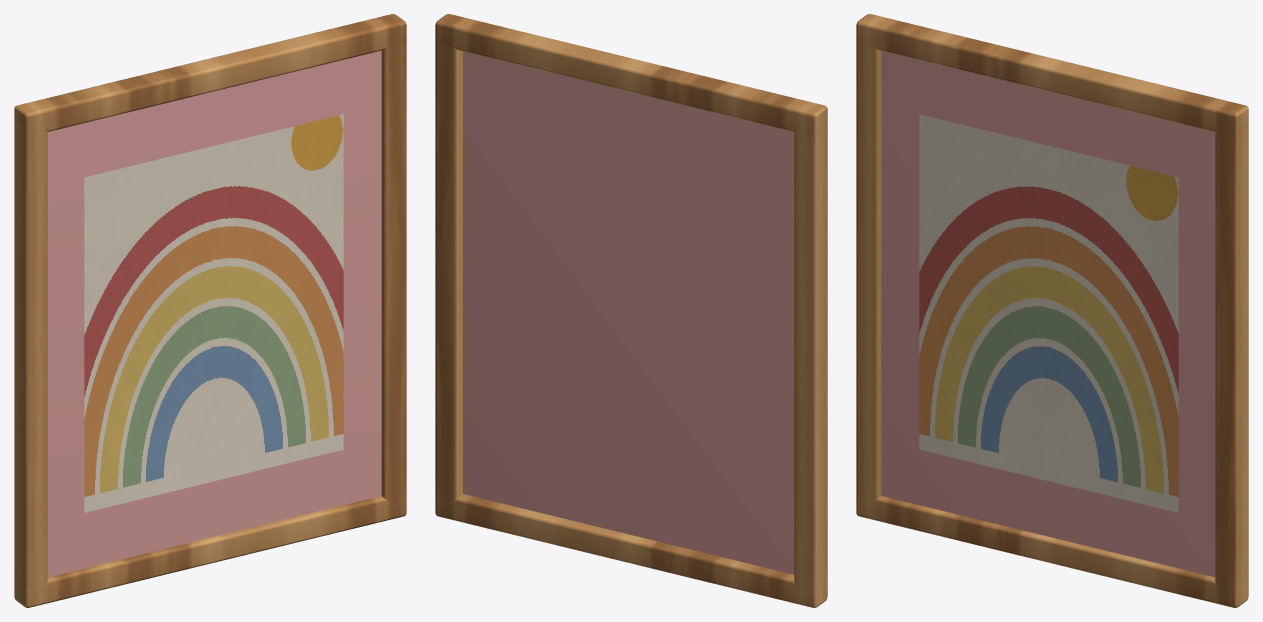
File: rainbow_print.glb
3 views of the same model, side by side, from view 1: azimuth 30°, elevation 25°; view 2: azimuth 150°, elevation 25°; view 3: azimuth 330°, elevation 25° (orthographic).
Visible parts, largest first — view 1: model; view 2: model; view 3: model.
Part boxes in pixels (box(x1,y1,x2,y2)): model: box(14, 14, 406, 607); model: box(435, 14, 827, 607); model: box(856, 14, 1248, 607).
Bounding box in the file's own units: 0.5 × 0.62 × 0.03.
Materials: 3 (2 with a texture image).
